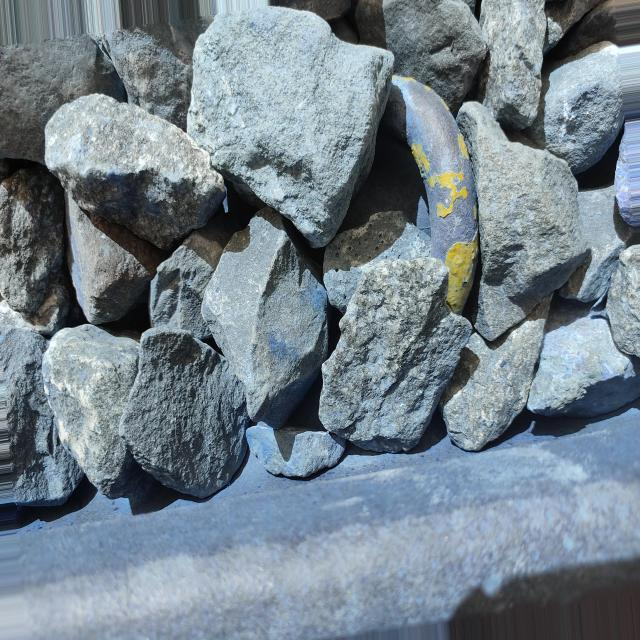Good Fasteners: (324, 76, 479, 314)
